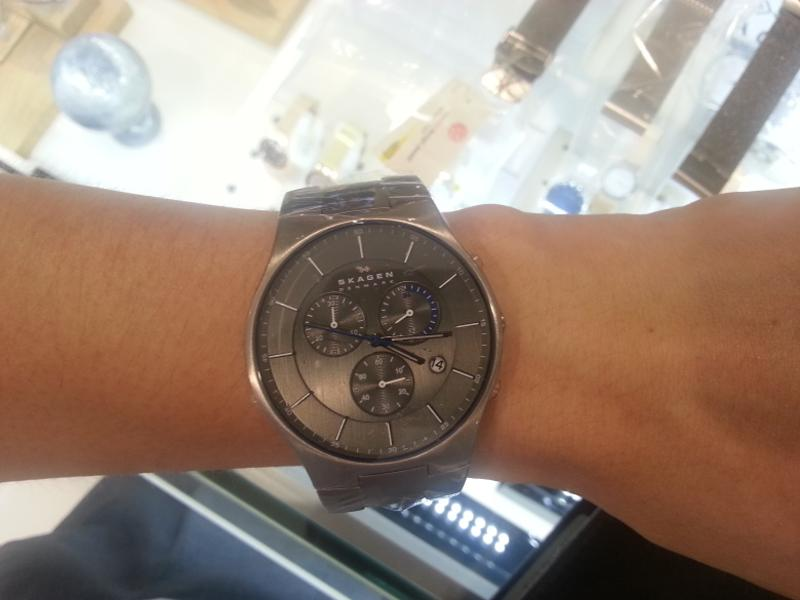watch: (238, 173, 503, 515)
